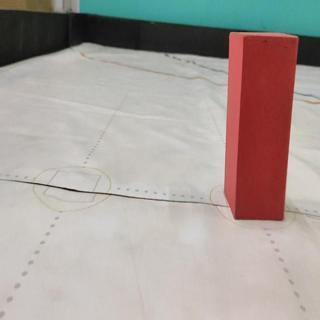redbox: (223, 31, 300, 222)
